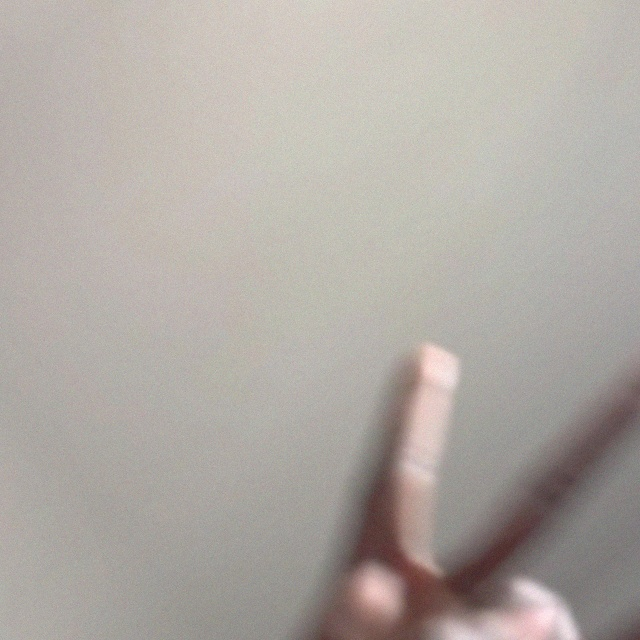Scissors: (0, 571, 348, 640)
